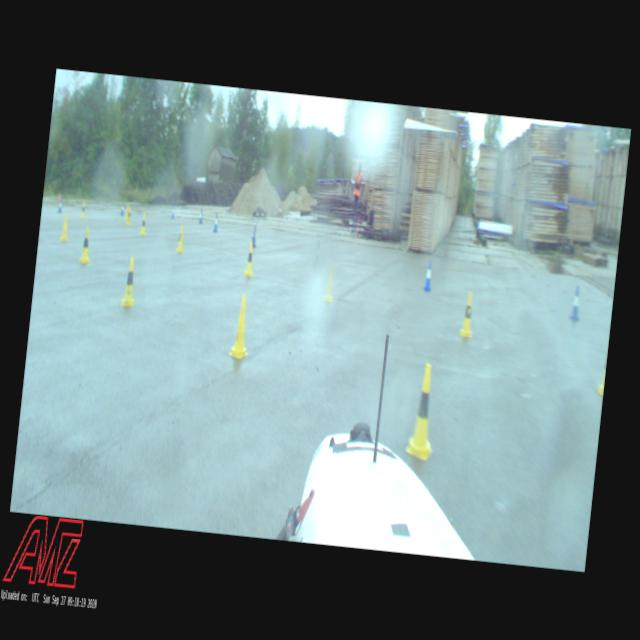blue_cone: (568, 285, 582, 320), (422, 260, 433, 291), (250, 226, 258, 247), (212, 213, 218, 232), (198, 207, 204, 223), (57, 199, 62, 212), (170, 208, 175, 218), (120, 203, 124, 215)
yellow_cone: (404, 362, 440, 460), (227, 293, 254, 359), (120, 256, 138, 306), (459, 291, 476, 336), (322, 264, 336, 302), (78, 226, 92, 262), (243, 242, 256, 277), (60, 212, 70, 242), (176, 225, 186, 252), (140, 213, 146, 235), (80, 202, 86, 218)
